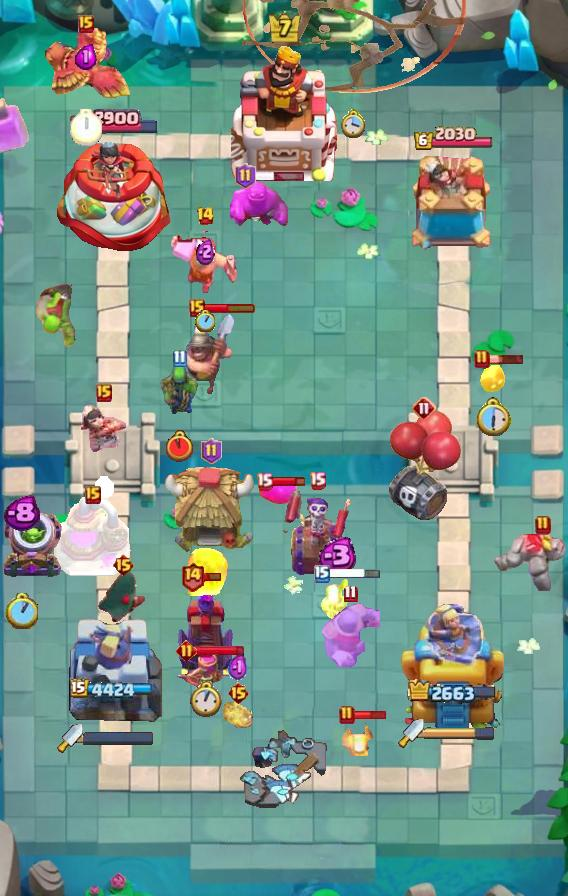bandit: (177, 311, 237, 399)
bar: (398, 595, 508, 731), (66, 611, 162, 731)
bar-level: (34, 284, 84, 350)
bomber: (478, 364, 506, 394)
cannon: (176, 651, 226, 697)
electro-spirit: (313, 538, 358, 575), (3, 496, 40, 533), (75, 42, 97, 70), (228, 653, 248, 683), (196, 237, 216, 265)
elixir: (473, 397, 510, 437), (70, 109, 102, 147), (190, 681, 222, 719), (5, 593, 38, 629), (166, 430, 193, 462), (341, 108, 367, 138), (195, 310, 215, 332), (95, 476, 114, 498)
emote: (328, 567, 382, 581), (194, 643, 246, 656), (204, 302, 257, 314), (253, 171, 305, 182), (487, 353, 525, 365), (270, 475, 305, 488), (352, 709, 387, 721), (202, 570, 222, 581)
firecracker: (320, 603, 379, 669)
giant-snowball: (159, 360, 199, 418)
goblin-cage: (0, 510, 64, 580)
guard: (242, 0, 466, 92)
heal-spirit: (321, 578, 349, 622)
ice-spirit-evolution: (334, 720, 378, 756), (221, 702, 255, 730)
ice-spirit-evolution-symbol: (175, 582, 237, 678)
king-tower: (231, 43, 337, 181)
king-tower-bar: (424, 726, 496, 740), (83, 731, 155, 745)
knight-evolution: (0, 98, 30, 154)
mighty-miner: (170, 231, 240, 293)
miner: (257, 477, 297, 505)
mother-witch: (38, 27, 134, 103)
pekka: (54, 496, 132, 578)
prince: (164, 465, 258, 555)
queen-tower: (51, 137, 177, 255), (407, 156, 499, 256)
royal-recruit-evolution: (385, 410, 463, 524)
selected: (68, 107, 159, 135), (409, 678, 500, 705), (414, 126, 495, 152), (71, 679, 157, 701)
skeleton-dragon: (78, 402, 130, 454)
skeleton-king-bar: (283, 491, 351, 577)
tesla: (97, 569, 149, 625)
text: (179, 560, 204, 591), (412, 396, 436, 420), (113, 553, 136, 577), (226, 681, 249, 705), (236, 163, 257, 189), (201, 438, 222, 464), (176, 639, 197, 660), (196, 206, 216, 226), (309, 470, 327, 489), (256, 472, 273, 491), (474, 349, 490, 369), (535, 515, 551, 535), (339, 705, 355, 725), (78, 15, 94, 33), (189, 299, 205, 317), (96, 384, 112, 402), (85, 486, 101, 504), (314, 565, 330, 583), (172, 349, 187, 368), (343, 584, 357, 603)
tornado: (230, 181, 288, 227)
valkyrie: (185, 542, 231, 600)
valkyrie-evolution: (492, 529, 568, 591)
